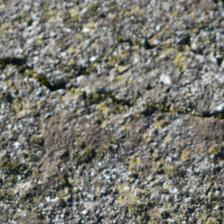Crack: (7, 53, 222, 124)
